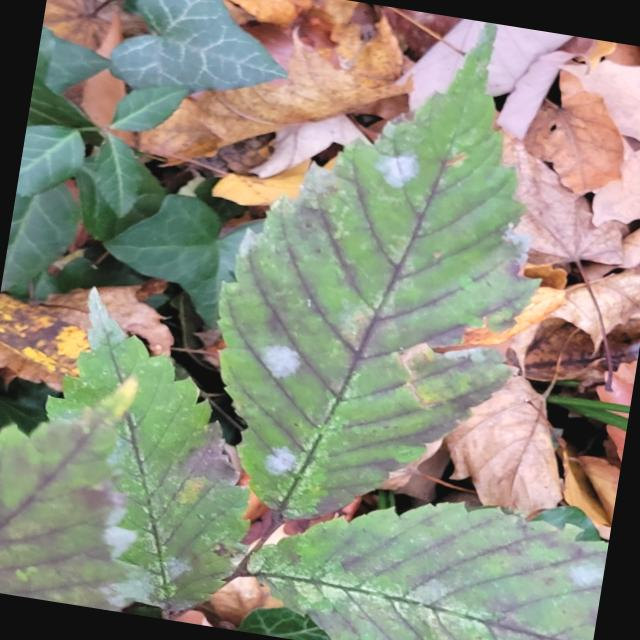powdery_mildew: (220, 43, 535, 517)
